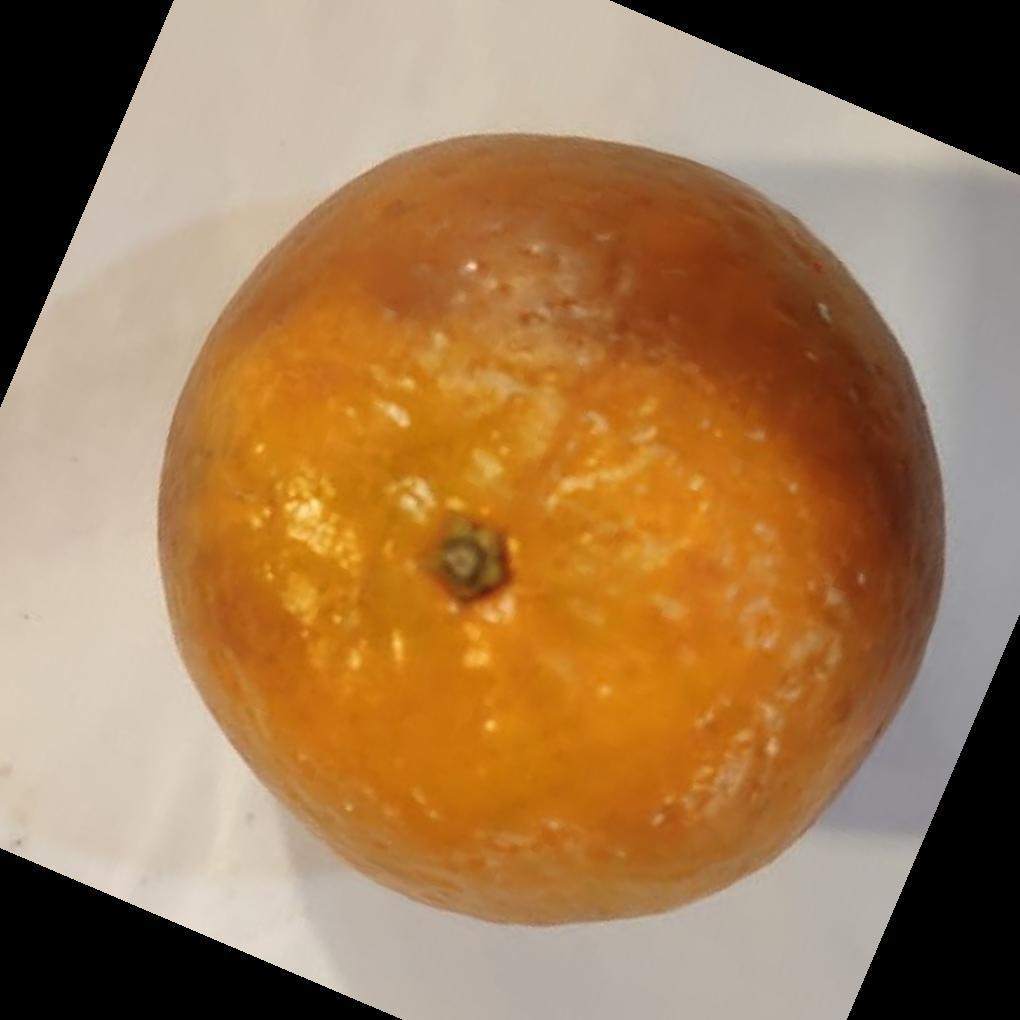FreshOrange: (154, 134, 947, 932)
